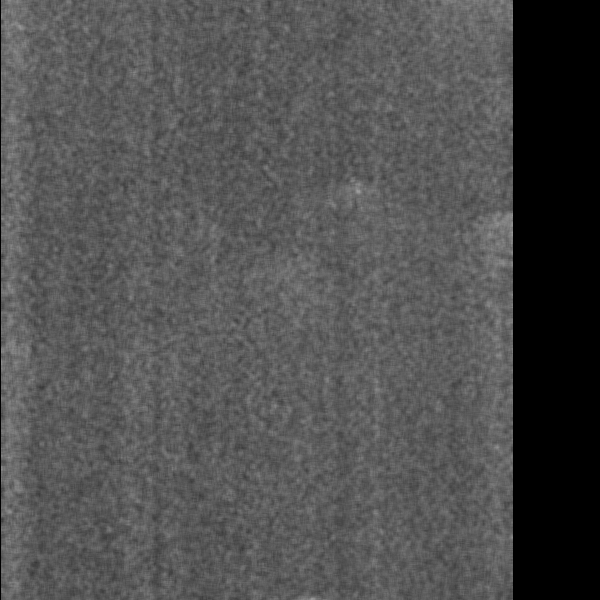spark: (53, 234, 93, 291), (58, 362, 93, 424)
